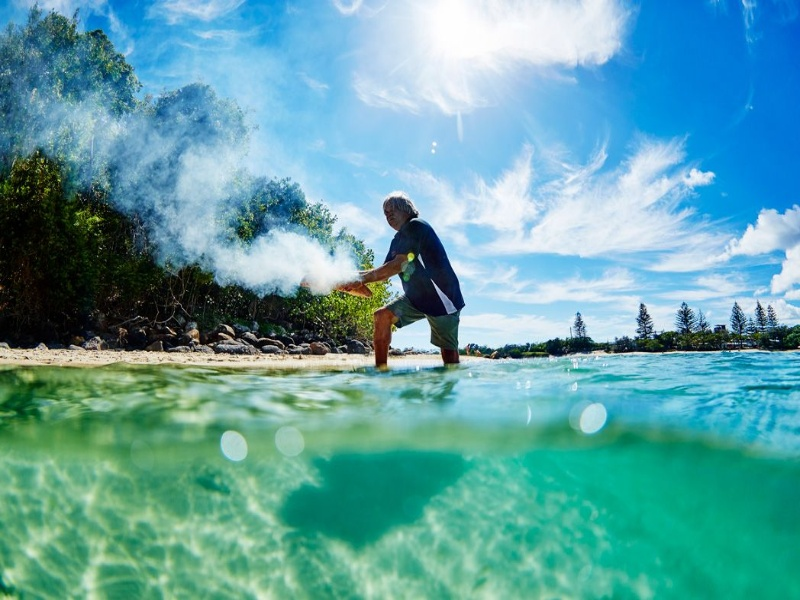smoke: (27, 73, 348, 291)
